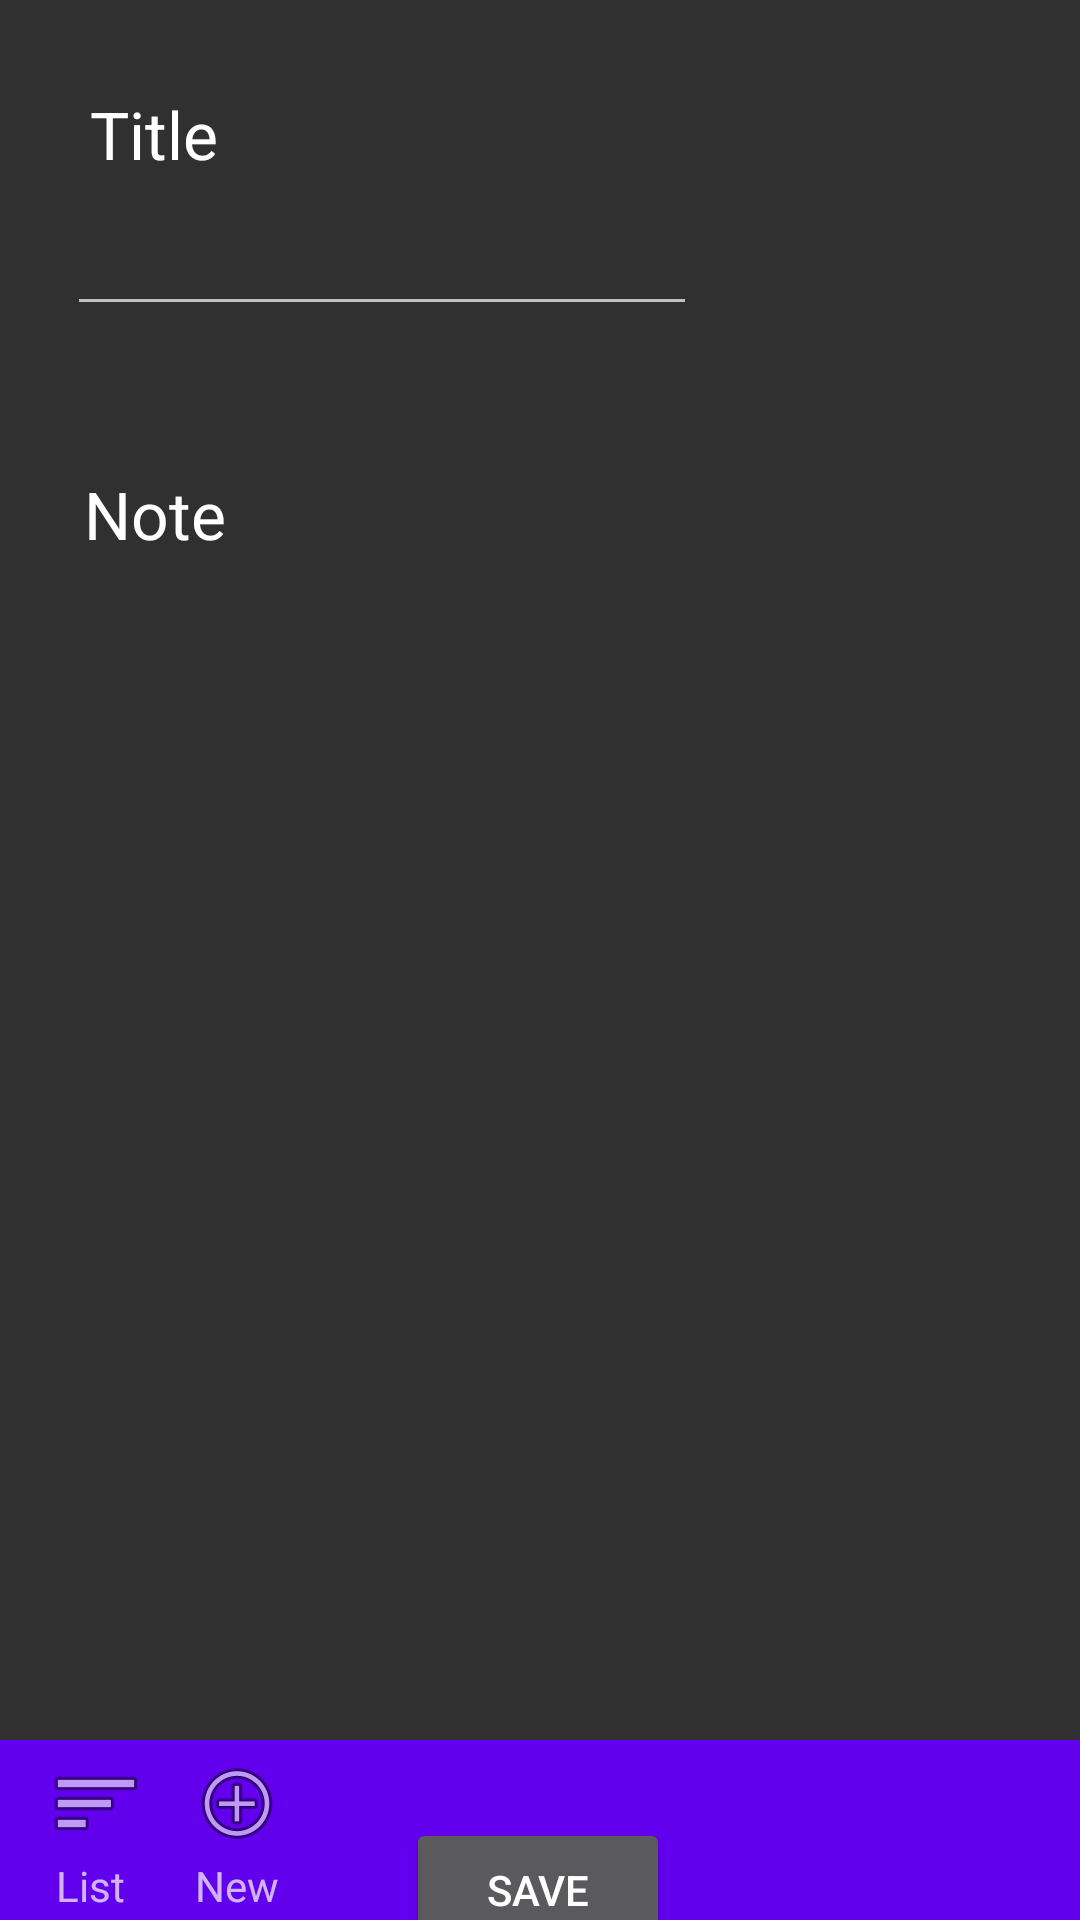

Icon click points for this 1080px×1920px phone screenshot, format (x,y):
add: (237,1803)
sort by size: (96,1803)
